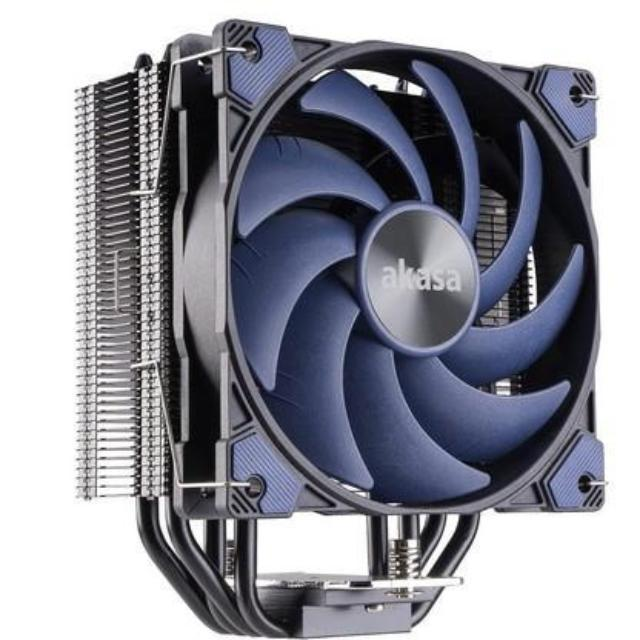CPU_Fan: (69, 18, 606, 638)
